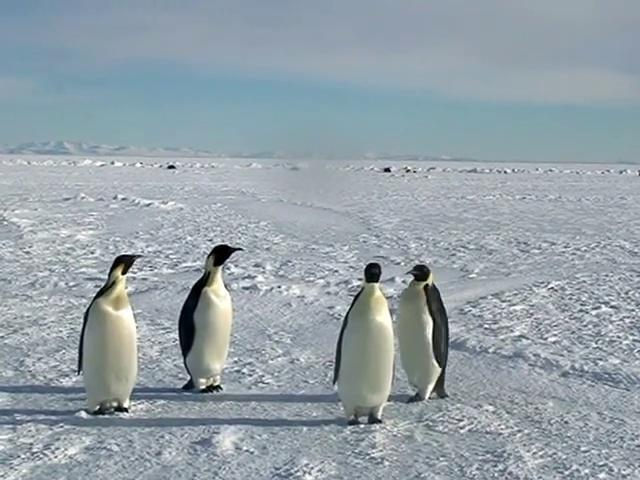animal: (339, 284, 394, 420)
